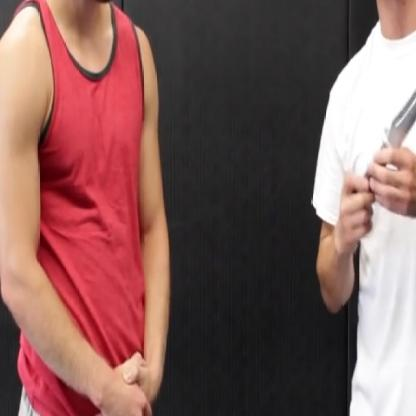knife: (340, 37, 416, 232)
